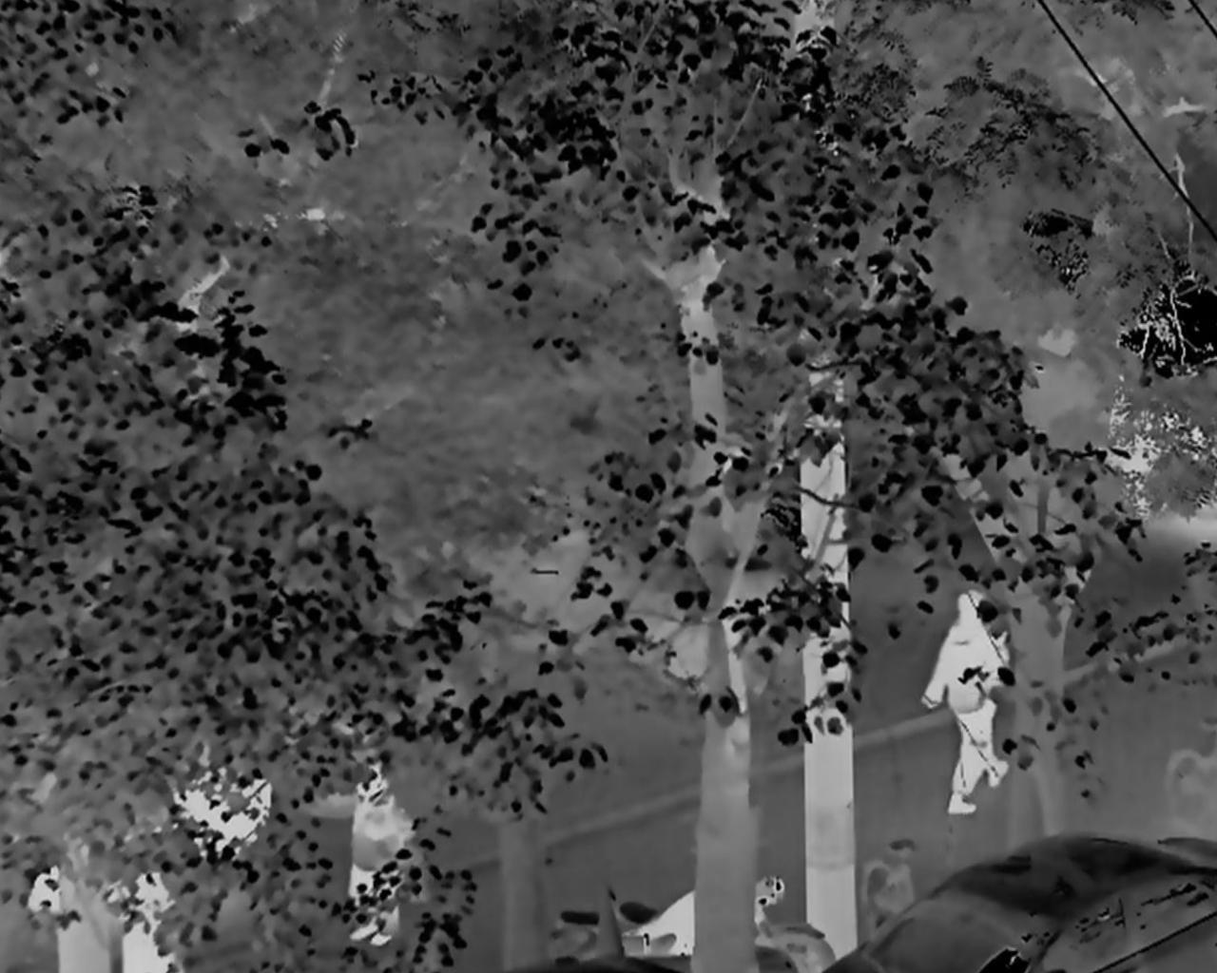person: (920, 588, 1009, 815), (346, 757, 418, 944), (119, 886, 175, 973)
